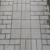zebra: (1, 17, 45, 50)
